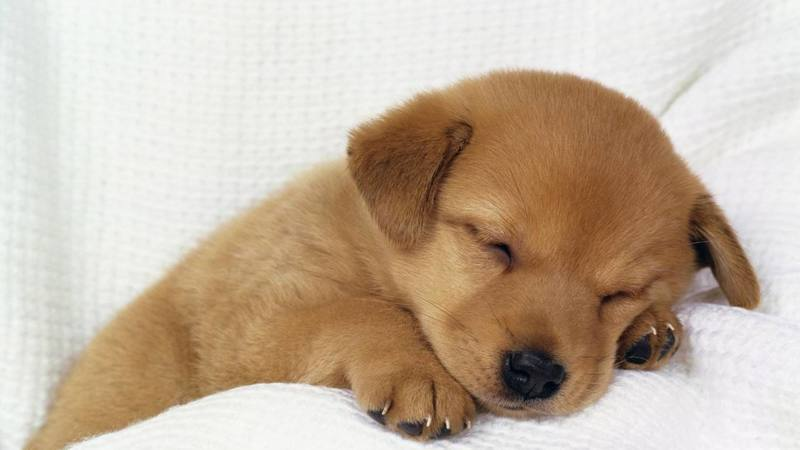dog: (334, 48, 769, 421)
